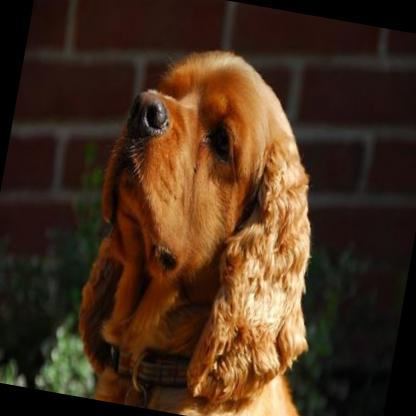cocker_spaniel: (62, 30, 371, 416)
